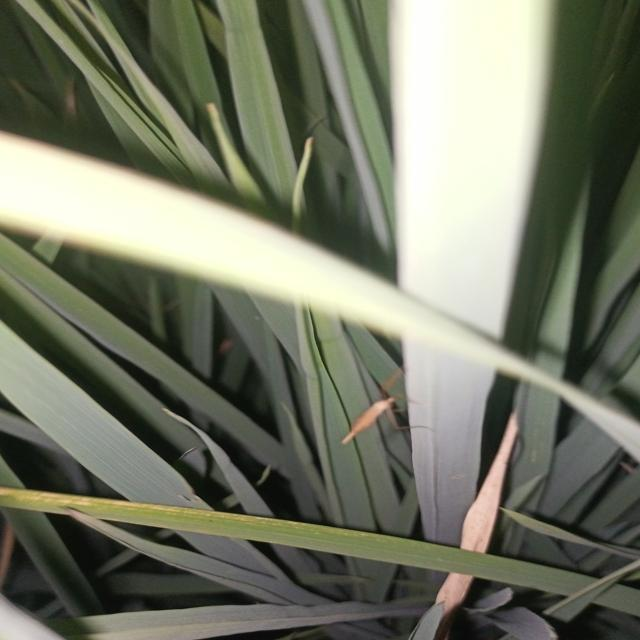green leaf hopper: (339, 357, 440, 460)
